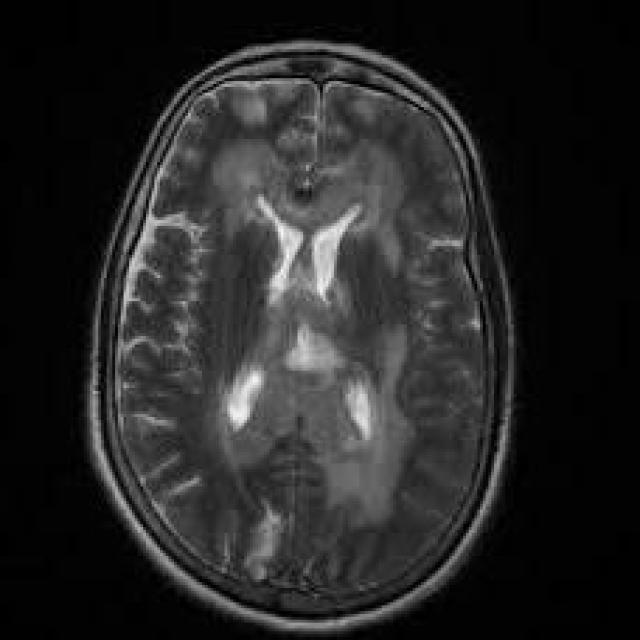notumor: (90, 46, 511, 631)
